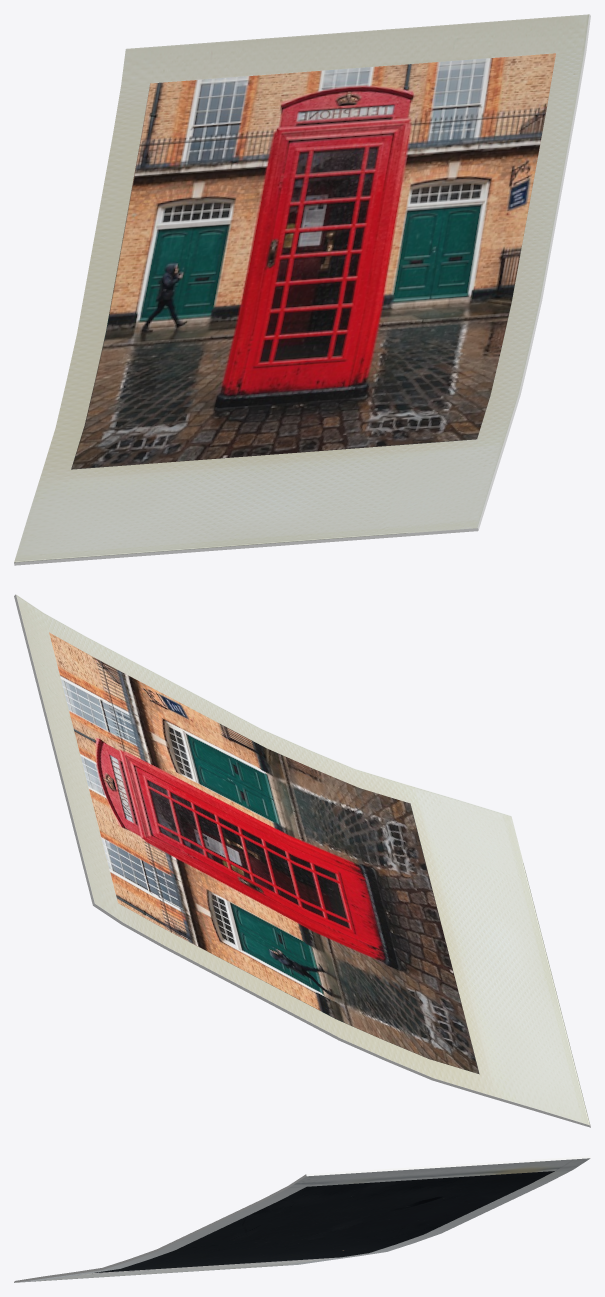
The model's file is polaroidContacte.glb.
3 renders of one model, top to bottom at view 1: azimuth 30°, elevation 25°; view 2: azimuth 150°, elevation 25°; view 3: azimuth 270°, elevation 25°, orthographic. The views are drawn at different scales.
Parts seen in each view (by area): view 1: Object_3, Object_5; view 2: Object_3, Object_5; view 3: Object_4, Object_5.
Boxes of the visible parts, x1,y1,x2,y2 form: Object_3: (71,53,555,469); Object_5: (14,14,590,565); Object_3: (49,632,479,1074); Object_5: (14,594,590,1127); Object_4: (95,1171,554,1272); Object_5: (14,1156,590,1282).
Bounding box in the file's own units: 27.2 × 18.12 × 31.5.
Materials: 3 (3 with a texture image).
